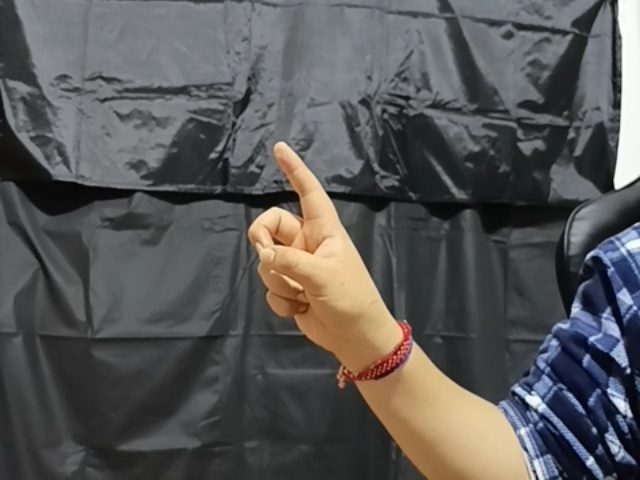D: (243, 138, 387, 356)
